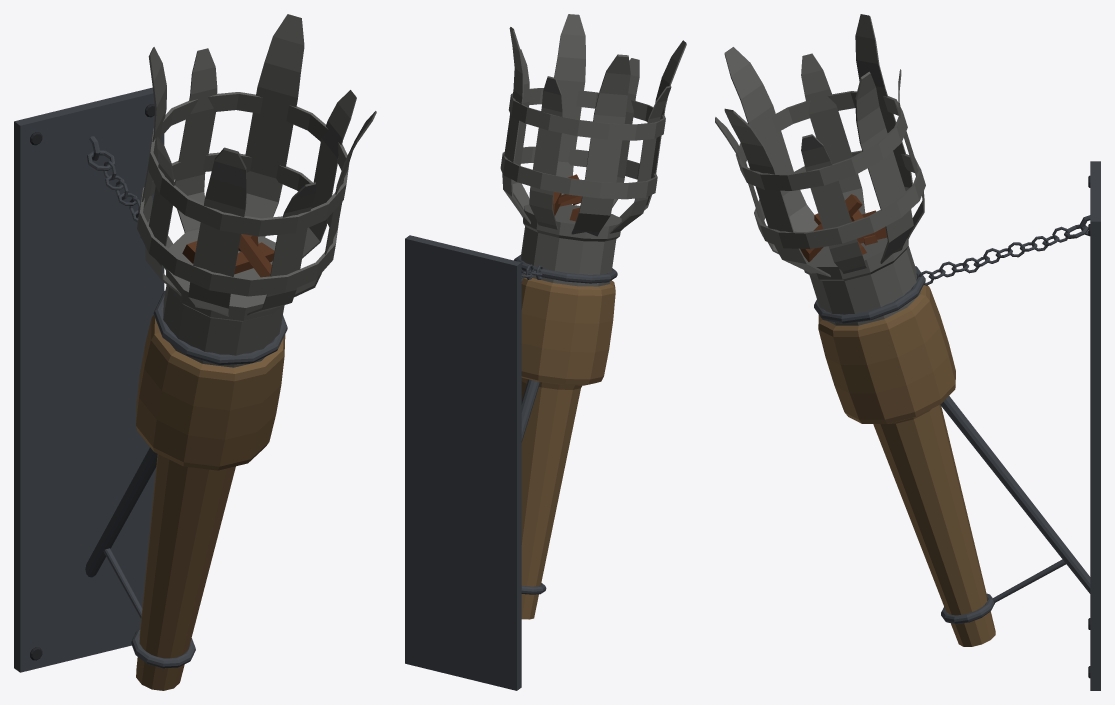
Rendered from Torch_1.fbx.
3 renders of one model, left to right at view 1: azimuth 30°, elevation 25°; view 2: azimuth 150°, elevation 25°; view 3: azimuth 270°, elevation 25°, orthographic. The views are drawn at different scales.
Visible parts, largest first — view 1: Torch_1; view 2: Torch_1; view 3: Torch_1.
Part boxes in pixels (box(x1,y1,x2,y2)): Torch_1: box(14, 14, 376, 690); Torch_1: box(405, 14, 686, 690); Torch_1: box(715, 14, 1100, 690).
Bounding box in the file's own units: 21.35 × 75.46 × 42.74.
